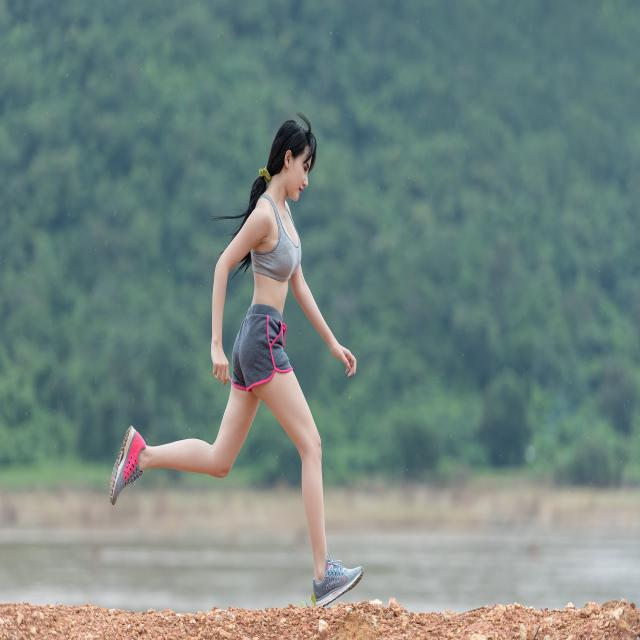running: (106, 117, 367, 613)
